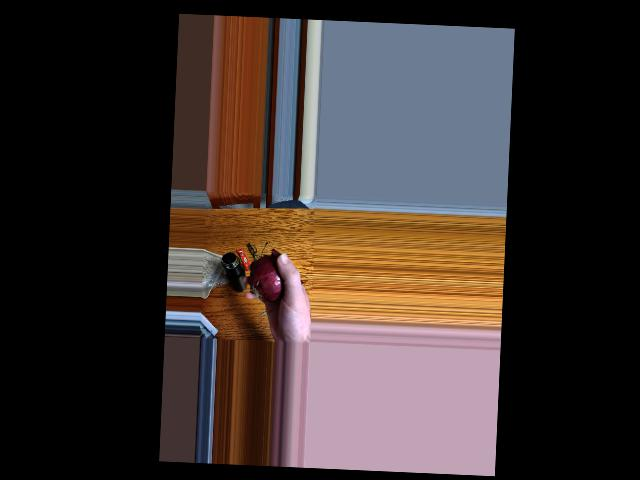onion: (249, 259, 291, 303)
